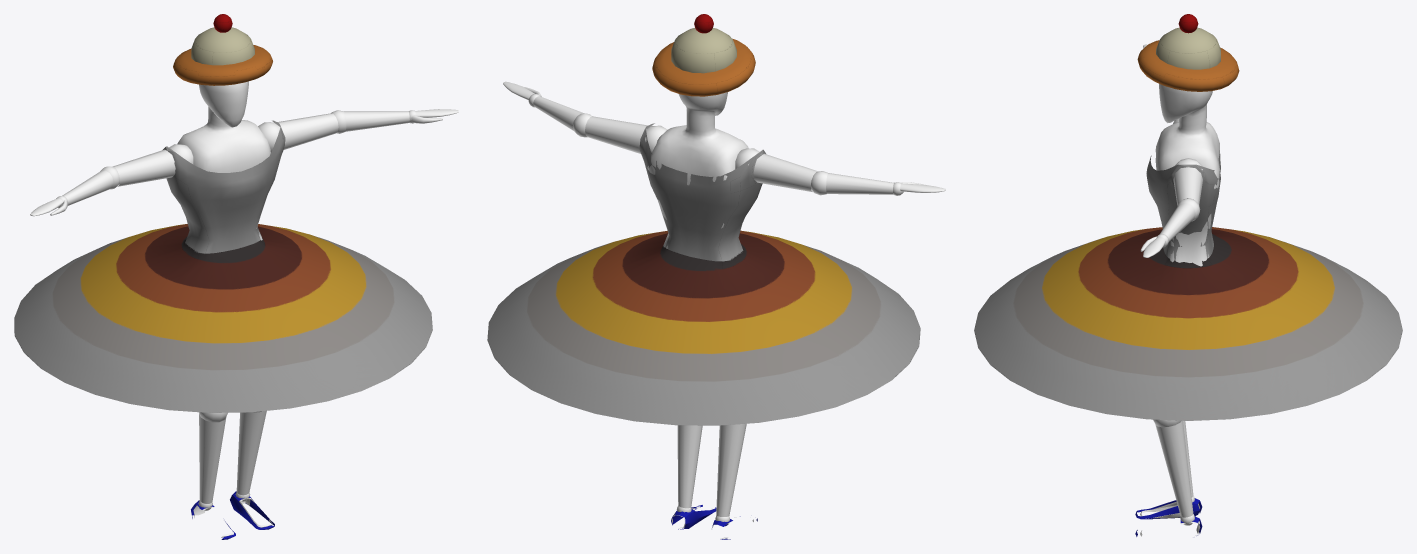
Rendered from BaseModelCustomBG.gltf.
The picture shows the model from 3 angles, left to right: view 1: azimuth 30°, elevation 25°; view 2: azimuth 150°, elevation 25°; view 3: azimuth 270°, elevation 25°; orthographic projection. The views are drawn at different scales.
Visible parts, largest first — view 1: CustomBG_1, BodyBG; view 2: CustomBG_1, BodyBG; view 3: CustomBG_1, BodyBG.
Boxes of the visible parts, bbox=[...] form: CustomBG_1: bbox=[14, 14, 432, 539]; BodyBG: bbox=[30, 81, 458, 537]; CustomBG_1: bbox=[487, 14, 920, 539]; BodyBG: bbox=[503, 81, 945, 538]; CustomBG_1: bbox=[974, 14, 1402, 536]; BodyBG: bbox=[1140, 44, 1219, 536].
Bounding box in the file's own units: 434 × 486 × 369.
2 materials, 1 textured.
